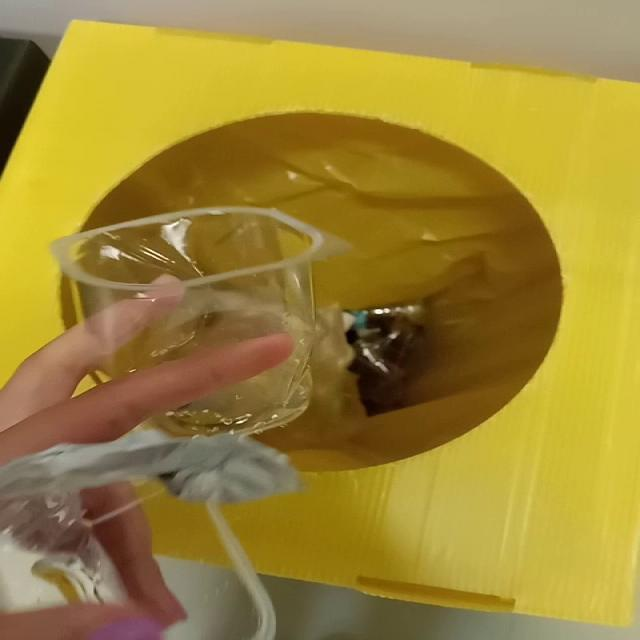Plastic: (51, 207, 345, 436)
